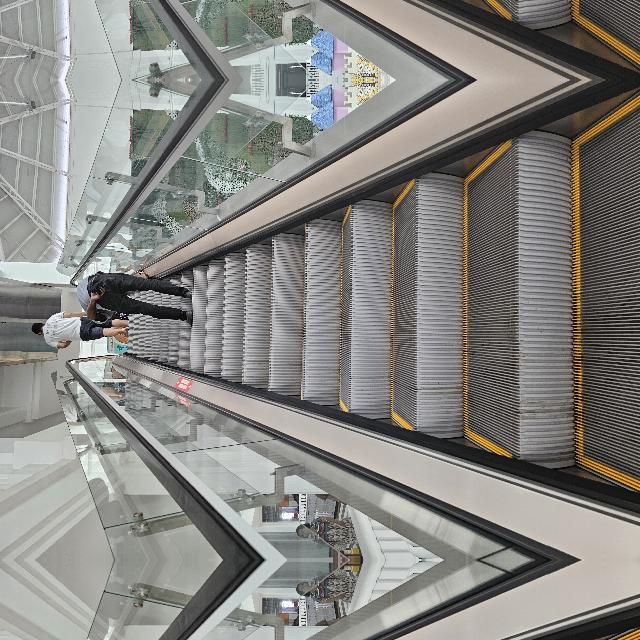person: (235, 156, 289, 274), (210, 111, 250, 209), (11, 376, 44, 438), (210, 0, 249, 49), (235, 0, 289, 3)
stair: (40, 201, 446, 640), (40, 399, 446, 640)
